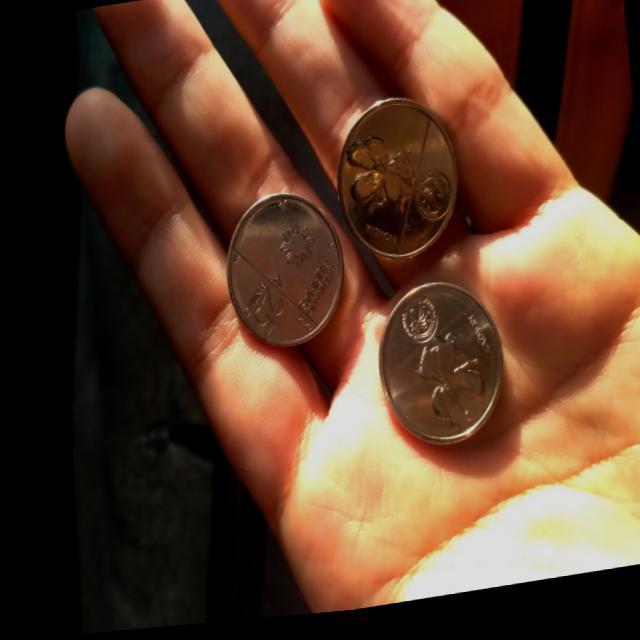25Cent_New_Back: (336, 137, 418, 234)
25Cent_New_Front: (233, 280, 285, 349)
